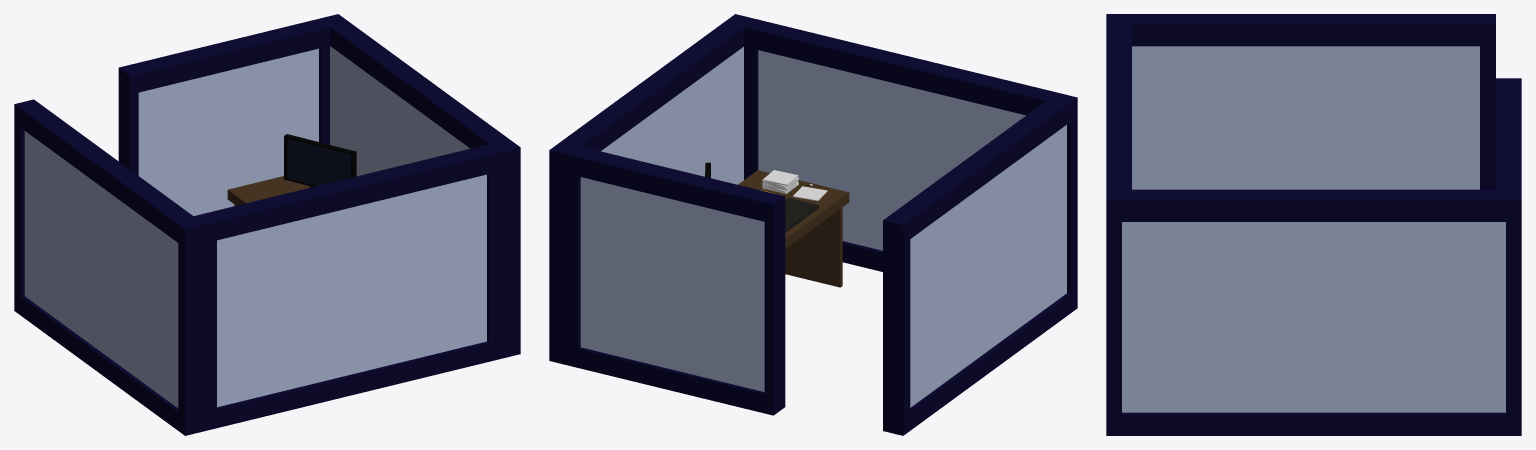
File: officetablewithwallsmirror.fbx
3 renders of one model, left to right at view 1: azimuth 30°, elevation 25°; view 2: azimuth 150°, elevation 25°; view 3: azimuth 270°, elevation 25°, orthographic. The views are drawn at different scales.
Parts seen in each view (by area): view 1: Cube.007, Cube.006, Cube.005, Cube.004, Cube.001, Cube; view 2: Cube.005, Cube.006, Cube.007, Cube.004, Cube, Cube.002; view 3: Cube.004, Cube.006, Cube.007, Cube.005.
Part boxes in pixels (x1,y1,x2,y2): Cube.007: [194, 144, 500, 430]; Cube.006: [14, 99, 204, 435]; Cube.005: [118, 19, 329, 215]; Cube.004: [319, 14, 520, 358]; Cube.001: [284, 134, 356, 187]; Cube: [227, 176, 310, 205]; Cube.005: [569, 146, 785, 415]; Cube.006: [883, 92, 1077, 435]; Cube.007: [744, 19, 1056, 271]; Cube.004: [549, 14, 754, 365]; Cube: [738, 170, 849, 287]; Cube.002: [785, 198, 818, 232]; Cube.004: [1106, 189, 1521, 435]; Cube.006: [1106, 14, 1495, 189]; Cube.007: [1106, 25, 1131, 189]; Cube.005: [1496, 78, 1521, 189].
Bounding box in the file's own units: 340 × 200 × 320.
